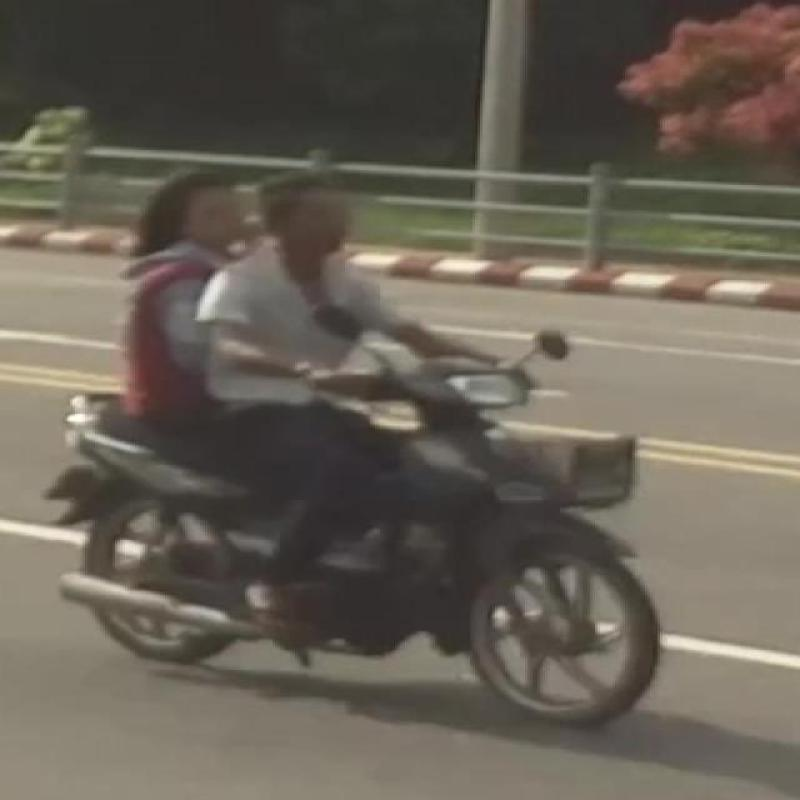nohelmet: (153, 142, 269, 250), (259, 156, 377, 252)
